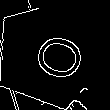O_W: (18, 25, 83, 83)
